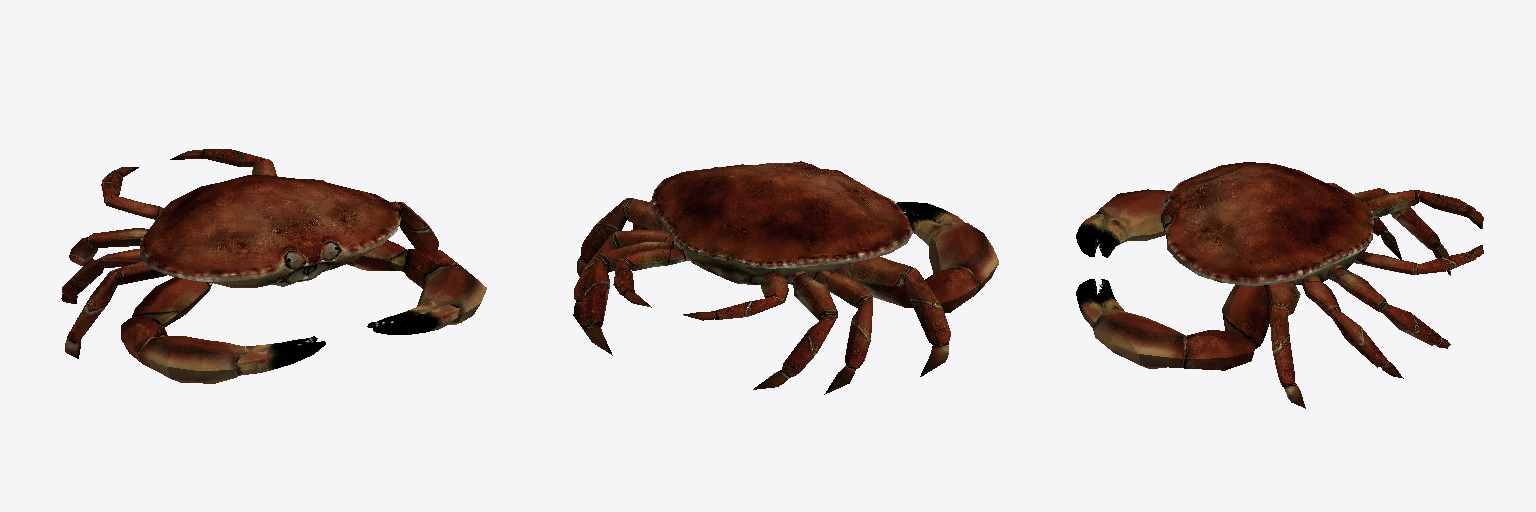
3 views of the same model, side by side, from view 1: azimuth 30°, elevation 25°; view 2: azimuth 150°, elevation 25°; view 3: azimuth 270°, elevation 25° (orthographic).
Parts seen in each view (by area): view 1: default; view 2: default; view 3: default.
Part boxes in pixels (left/top/right/bottom): default: left=61, top=149, right=486, bottom=383; default: left=573, top=161, right=998, bottom=394; default: left=1076, top=162, right=1483, bottom=408.
Size of the model in its own units: 19.03 by 7.09 by 18.07.
Materials: 1 (1 with a texture image).